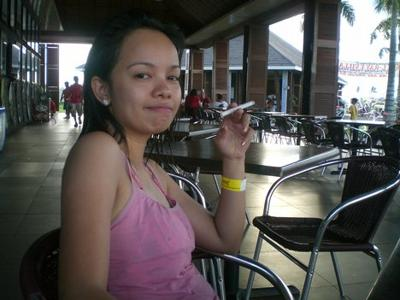person: (54, 13, 255, 299)
